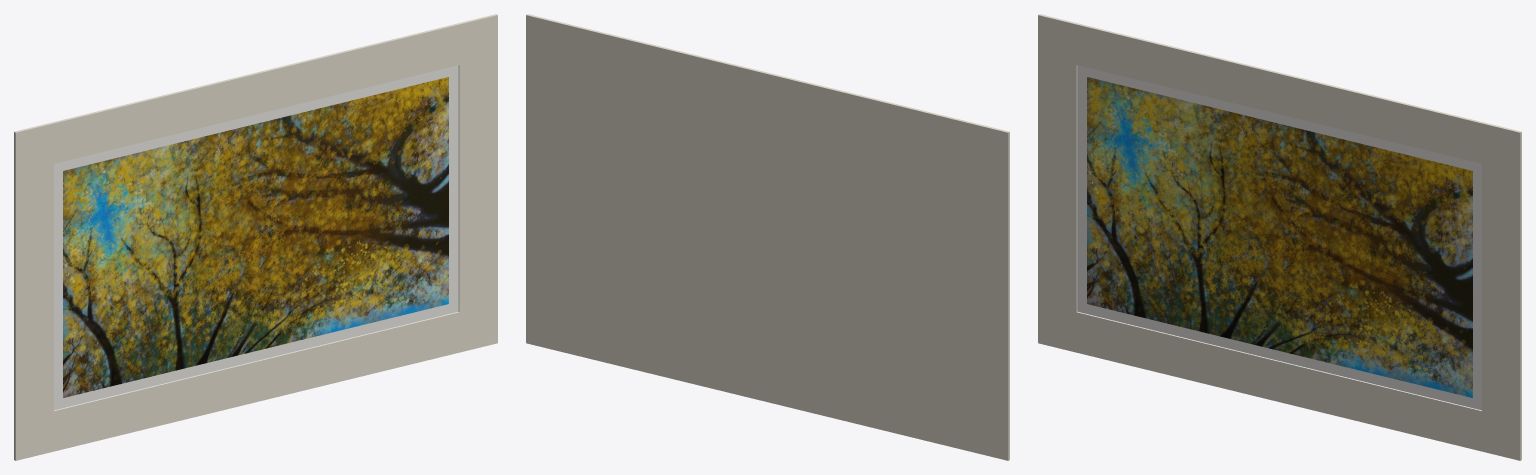
Rendered from hz042_moyen_passe-partout.glb.
3 renders of one model, left to right at view 1: azimuth 30°, elevation 25°; view 2: azimuth 150°, elevation 25°; view 3: azimuth 330°, elevation 25°, orthographic.
Parts seen in each view (by area): view 1: hz042_moyen_passe-partout; view 2: hz042_moyen_passe-partout; view 3: hz042_moyen_passe-partout.
Part boxes in pixels (box(x1,y1,x2,y2)): hz042_moyen_passe-partout: box(14, 14, 497, 460); hz042_moyen_passe-partout: box(526, 14, 1009, 460); hz042_moyen_passe-partout: box(1038, 14, 1521, 460).
Size of the model in its own units: 1 by 0.65 by 0.0055.
4 materials, 1 textured.
